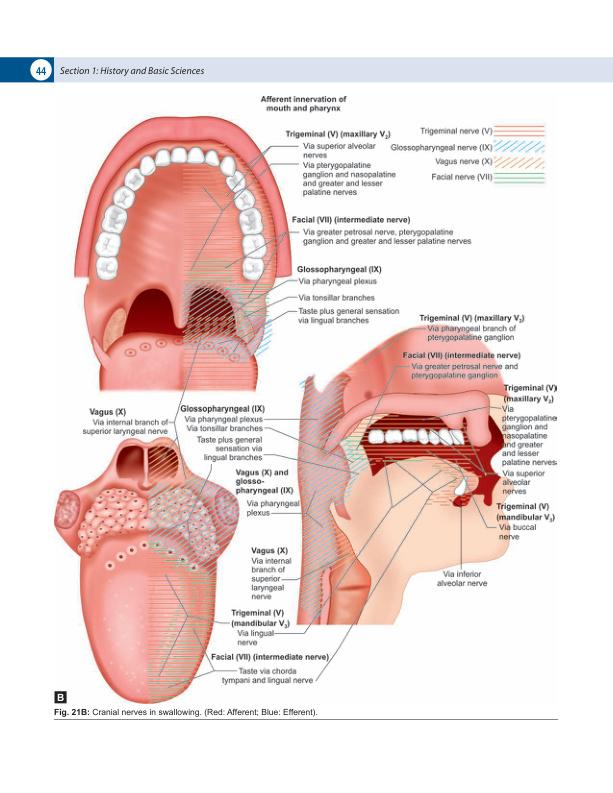caption: (53, 707, 319, 718), (56, 692, 65, 703)
header: (59, 66, 205, 77)
image: (40, 86, 581, 706)
